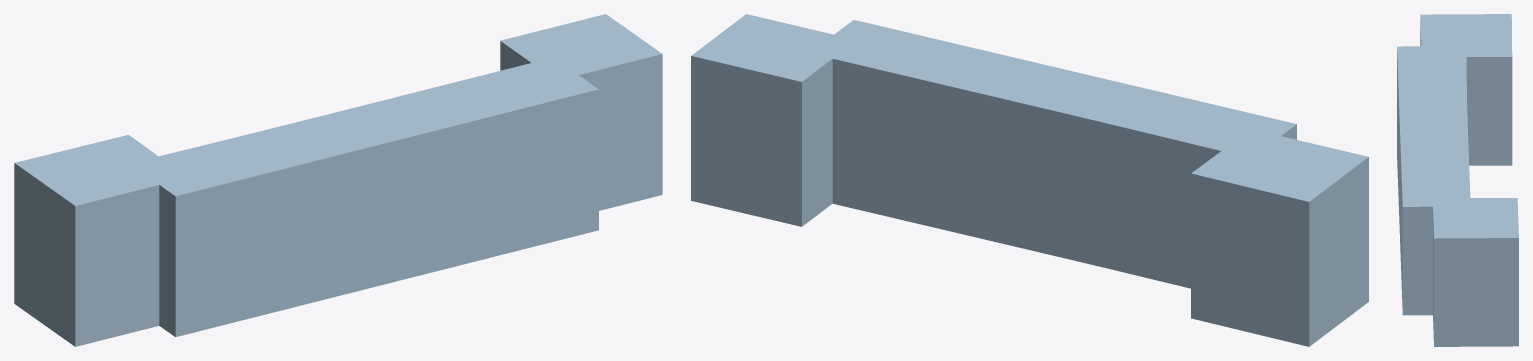
File: osm_way_223859792.glb
3 renders of one model, left to right at view 1: azimuth 30°, elevation 25°; view 2: azimuth 150°, elevation 25°; view 3: azimuth 270°, elevation 25°, orthographic. The views are drawn at different scales.
Parts seen in each view (by area): view 1: osm_way_223859792; view 2: osm_way_223859792; view 3: osm_way_223859792.
Boxes of the visible parts, left/top/right/bottom form: osm_way_223859792: left=14, top=14, right=662, bottom=346; osm_way_223859792: left=691, top=14, right=1368, bottom=346; osm_way_223859792: left=1397, top=14, right=1518, bottom=346.
Size of the model in its own units: 85.21 by 19.2 by 19.57.
